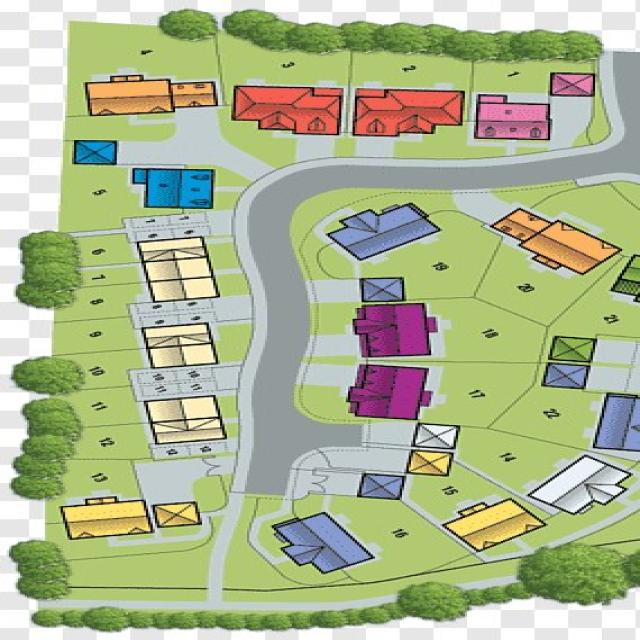greenish: (72, 41, 216, 74), (378, 516, 437, 570), (453, 312, 525, 355), (228, 56, 344, 82), (406, 248, 478, 287), (66, 173, 118, 226), (472, 440, 548, 476), (294, 210, 332, 278), (71, 562, 204, 581), (446, 372, 506, 414), (520, 397, 580, 439), (573, 296, 638, 334), (494, 266, 555, 306), (358, 57, 463, 80), (52, 320, 129, 348), (322, 191, 455, 207), (73, 462, 138, 492), (411, 480, 487, 502), (80, 393, 132, 423), (67, 23, 167, 38), (85, 236, 131, 265), (83, 356, 129, 384), (584, 100, 612, 146), (482, 67, 537, 90), (408, 143, 498, 157), (193, 476, 229, 511), (566, 196, 622, 218), (438, 214, 482, 242), (81, 431, 131, 455), (71, 590, 190, 600), (337, 498, 376, 526), (230, 555, 264, 587), (67, 119, 132, 135), (145, 542, 209, 557), (234, 522, 270, 548), (83, 292, 121, 316), (60, 544, 135, 556), (306, 388, 342, 413), (245, 134, 287, 154), (210, 241, 240, 269), (609, 222, 639, 250), (500, 187, 562, 200), (81, 268, 131, 284), (279, 568, 326, 585), (339, 260, 396, 274), (219, 327, 242, 359), (320, 306, 347, 332), (246, 493, 275, 517), (135, 126, 179, 141), (68, 78, 85, 115), (302, 355, 359, 366), (605, 522, 639, 540), (217, 169, 252, 186), (546, 515, 577, 533), (222, 273, 247, 294), (334, 137, 358, 158), (214, 192, 238, 210), (222, 394, 241, 416)
